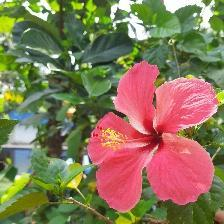hibiscus: (86, 61, 219, 211)
